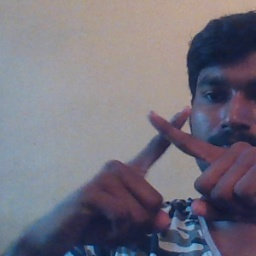X: (110, 93, 235, 208)
